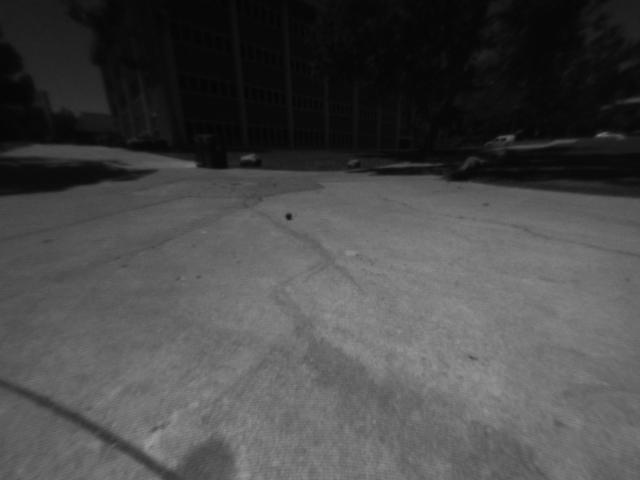dogtoy: (279, 206, 299, 227)
